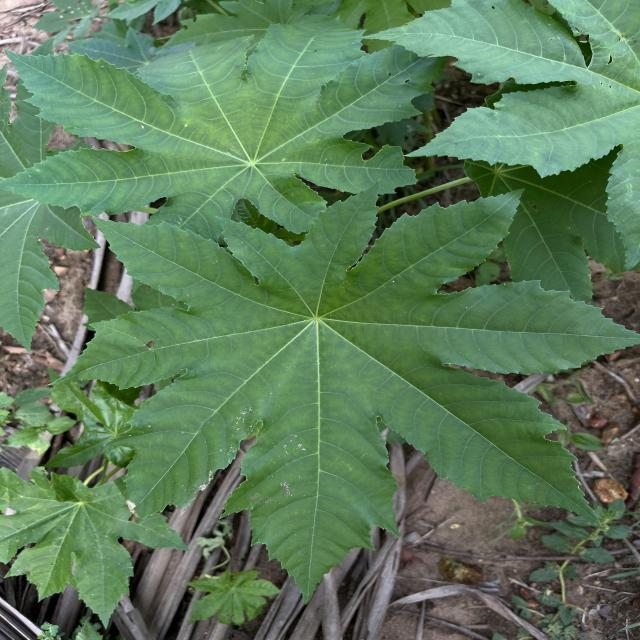Ricinus communis linn: (44, 174, 640, 610), (0, 7, 450, 248)
